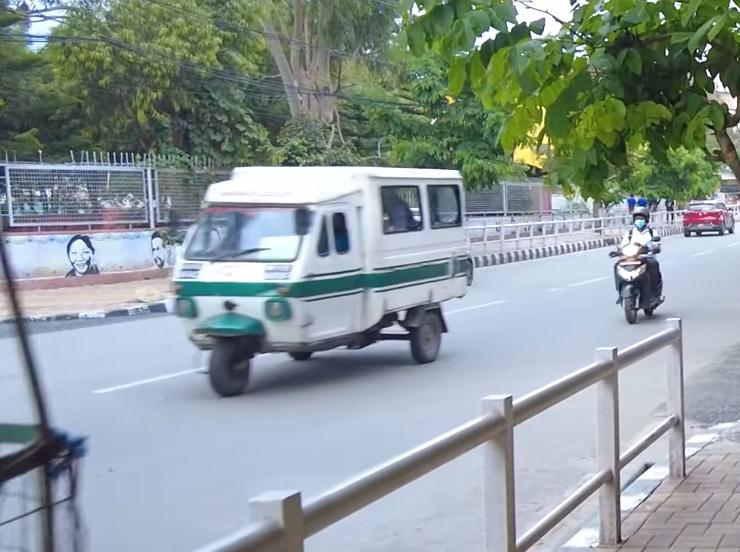car: (681, 196, 739, 242)
scooter: (603, 236, 674, 328)
tempo: (153, 148, 483, 403)
